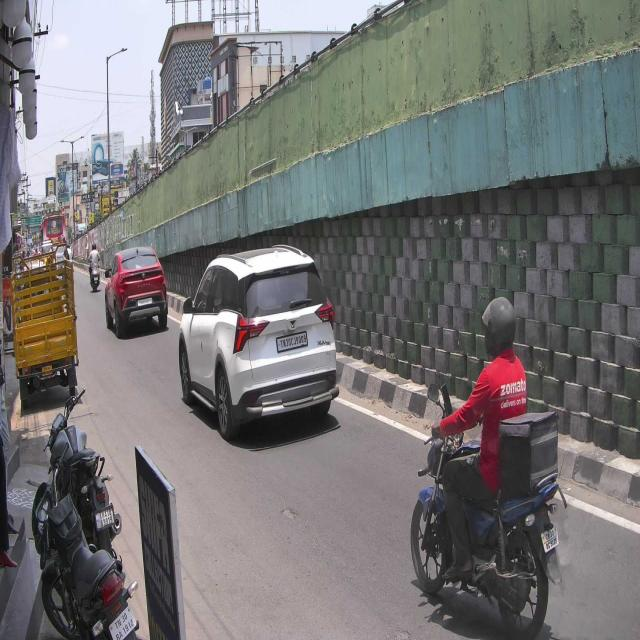single_rider: (410, 295, 563, 639)
